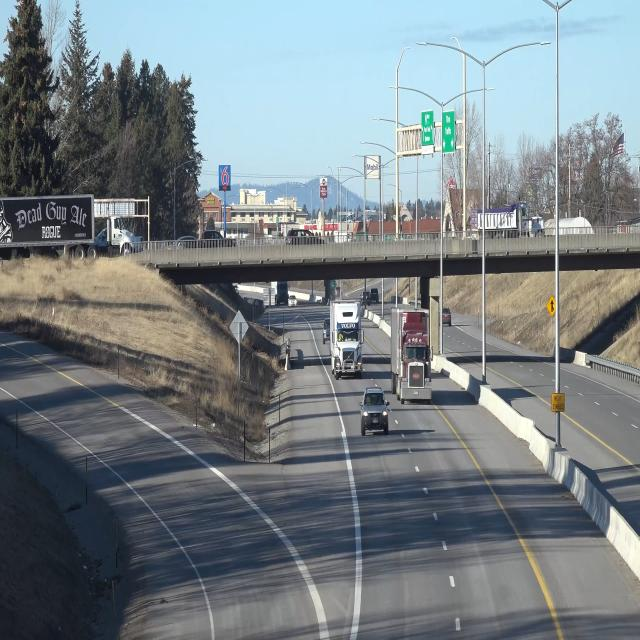Car: (391, 332, 432, 405), (328, 303, 369, 372), (386, 296, 418, 384), (357, 388, 385, 427)
